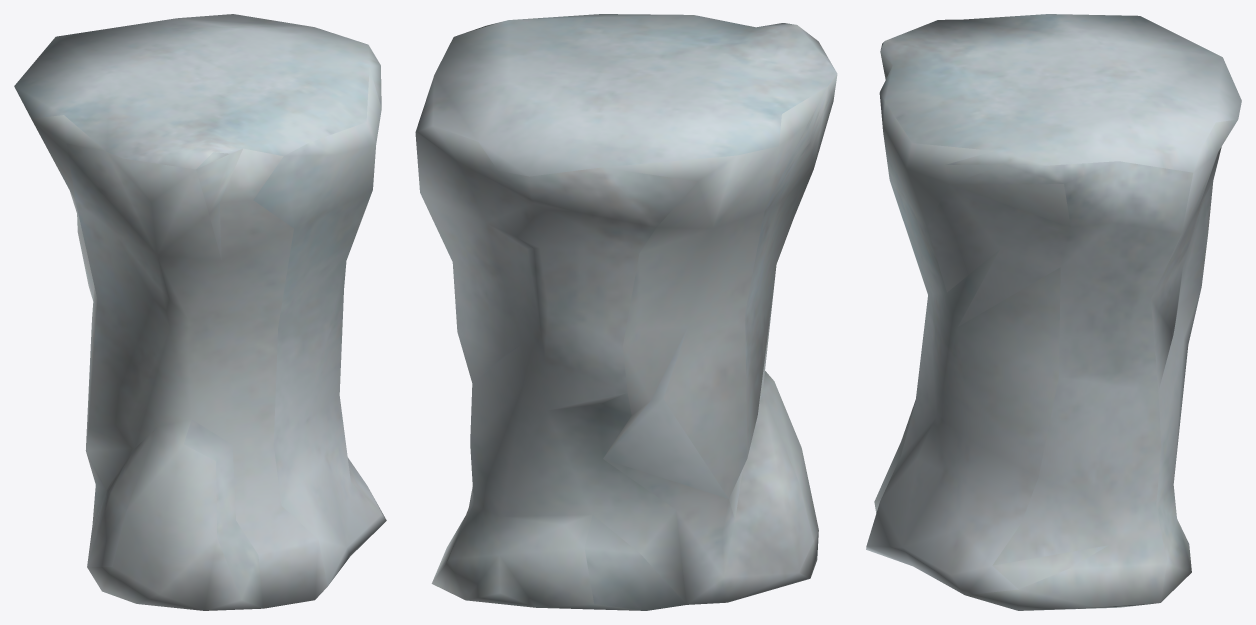
Rendered from P_PlatformClassic1.obj.
3 renders of one model, left to right at view 1: azimuth 30°, elevation 25°; view 2: azimuth 150°, elevation 25°; view 3: azimuth 270°, elevation 25°, orthographic. The views are drawn at different scales.
Bounding box in the file's own units: 7.12 × 10.22 × 7.25.
